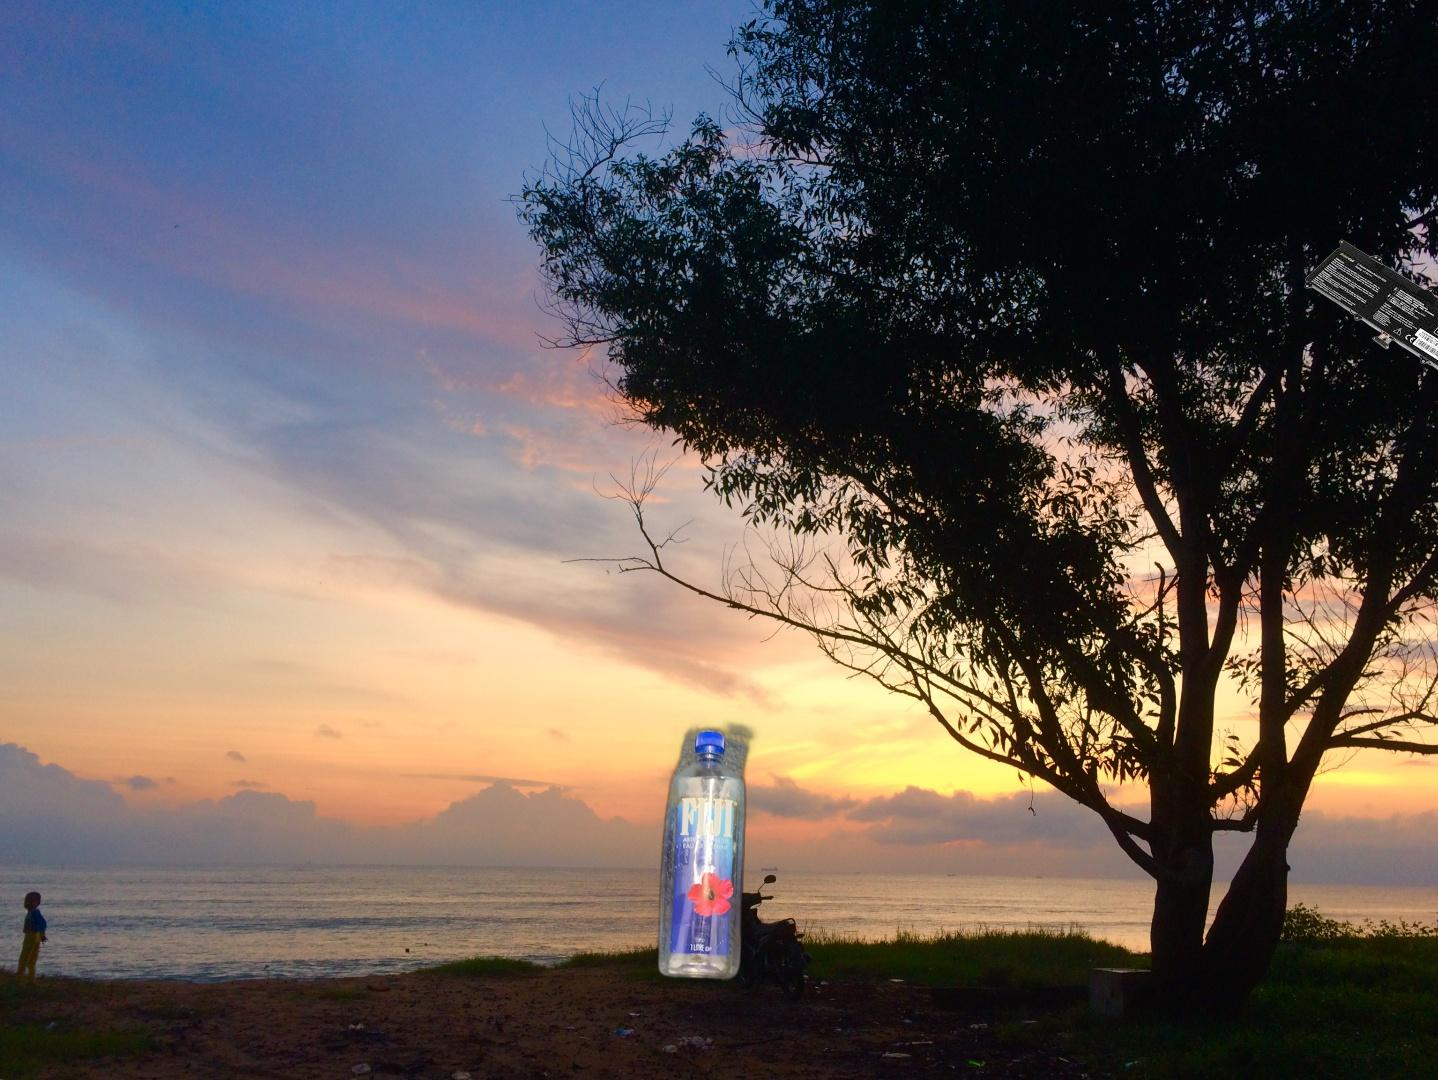battery: (1302, 237, 1438, 403)
plastic-bottles: (653, 660, 767, 987)
